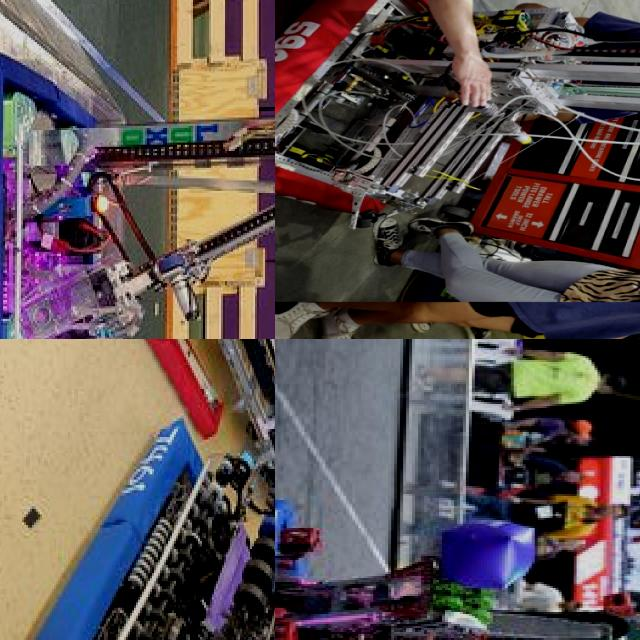FRC-Robots: (0, 34, 275, 339), (275, 0, 640, 224), (0, 405, 275, 640), (275, 493, 640, 640)
